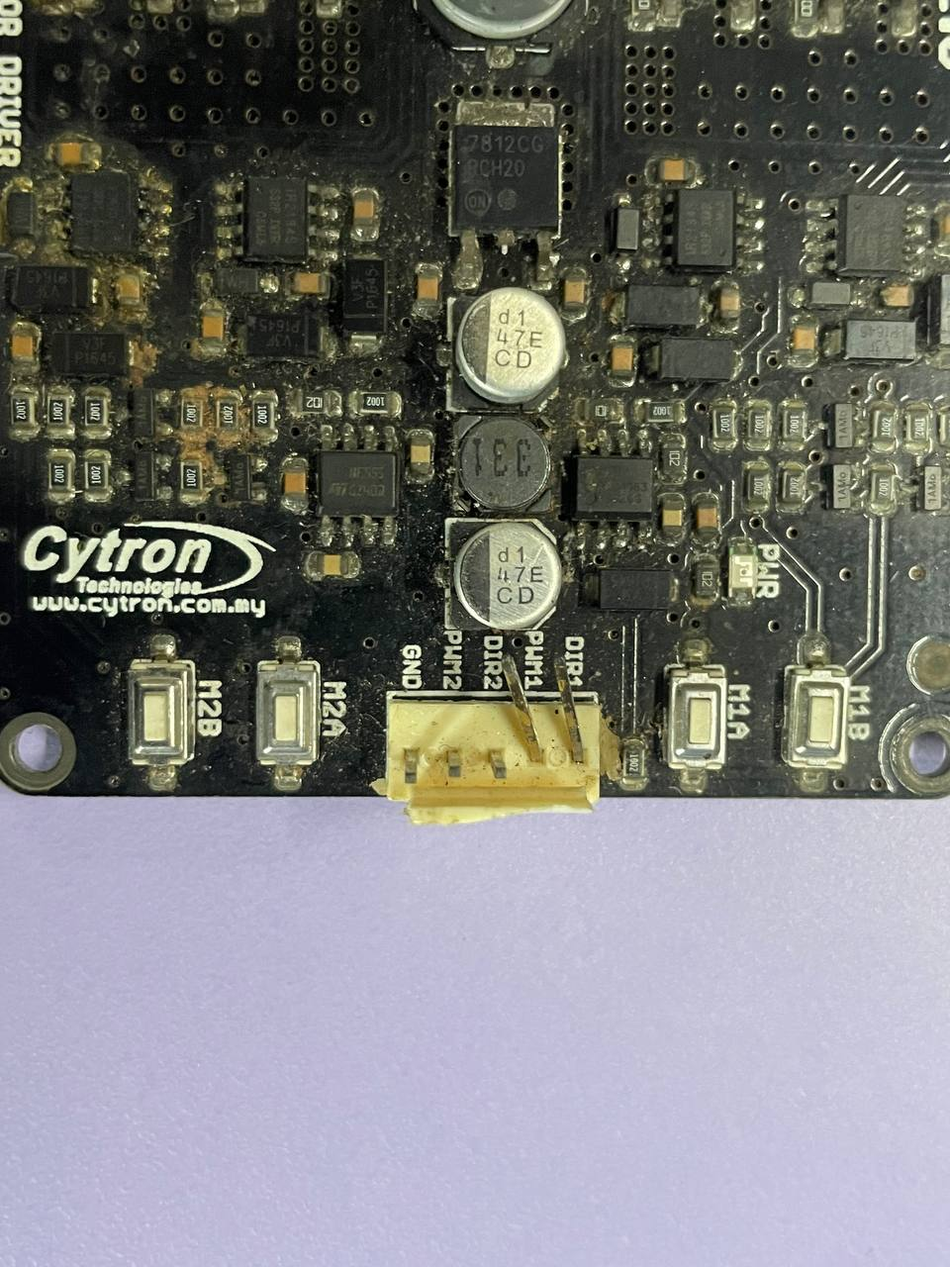bent_pin: (491, 650, 548, 767), (549, 651, 600, 765)
